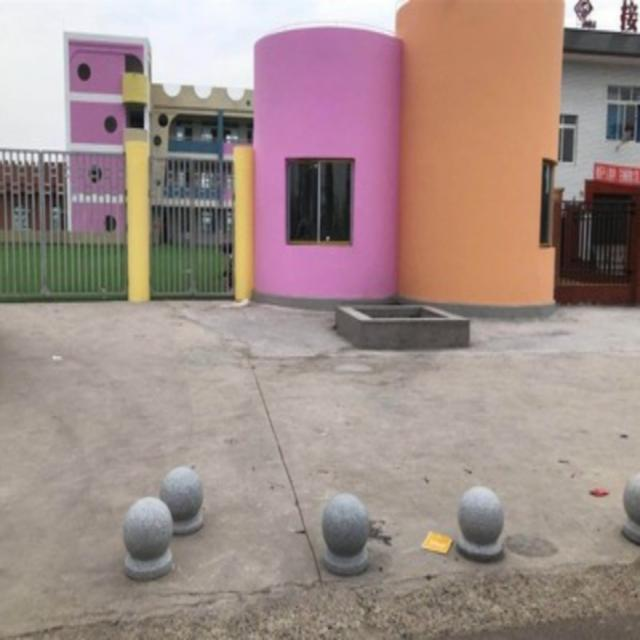spherical_roadblock: (118, 491, 176, 578), (454, 482, 506, 561), (320, 491, 370, 572), (160, 463, 205, 531), (616, 465, 638, 542)
